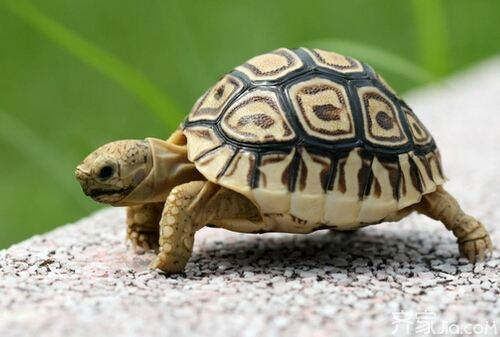tortoise: (72, 50, 491, 278)
